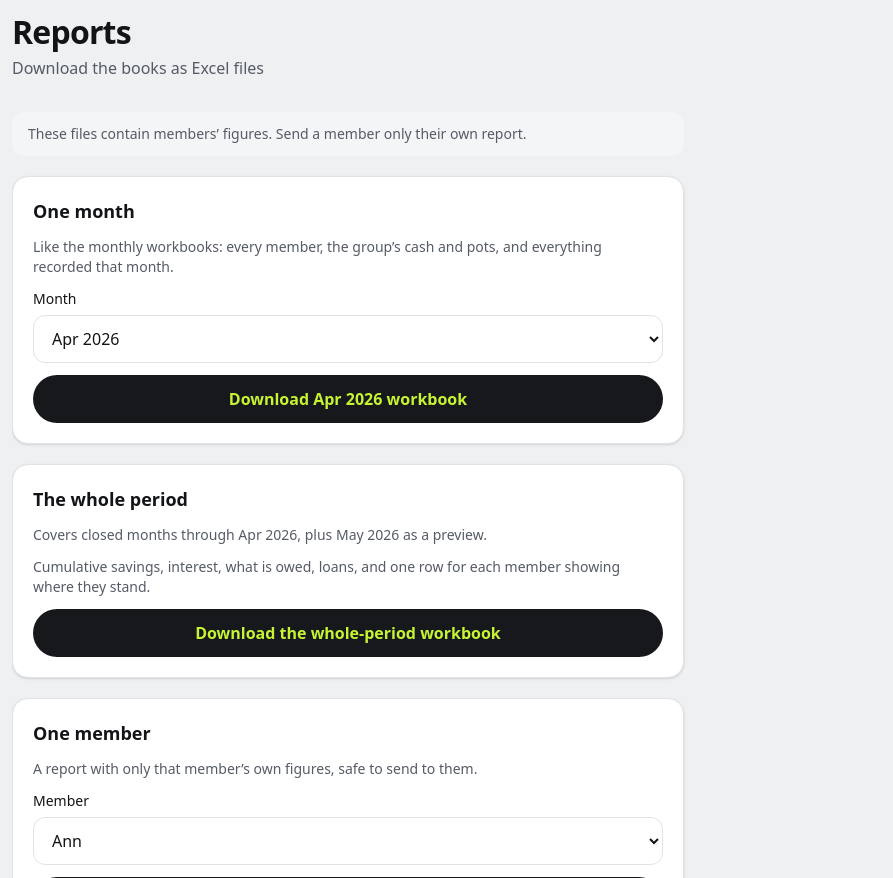
it: the whole-period file says what it covers, and a left-out month is mentioned in the toast
Check: the text "Covers closed months through Apr 2026, plus May 2026 as a preview." is shown, box 33,525 -> 487,544
Click the button "Download the whole-period workbook".
click(348, 633)  # box 33,609 -> 663,657
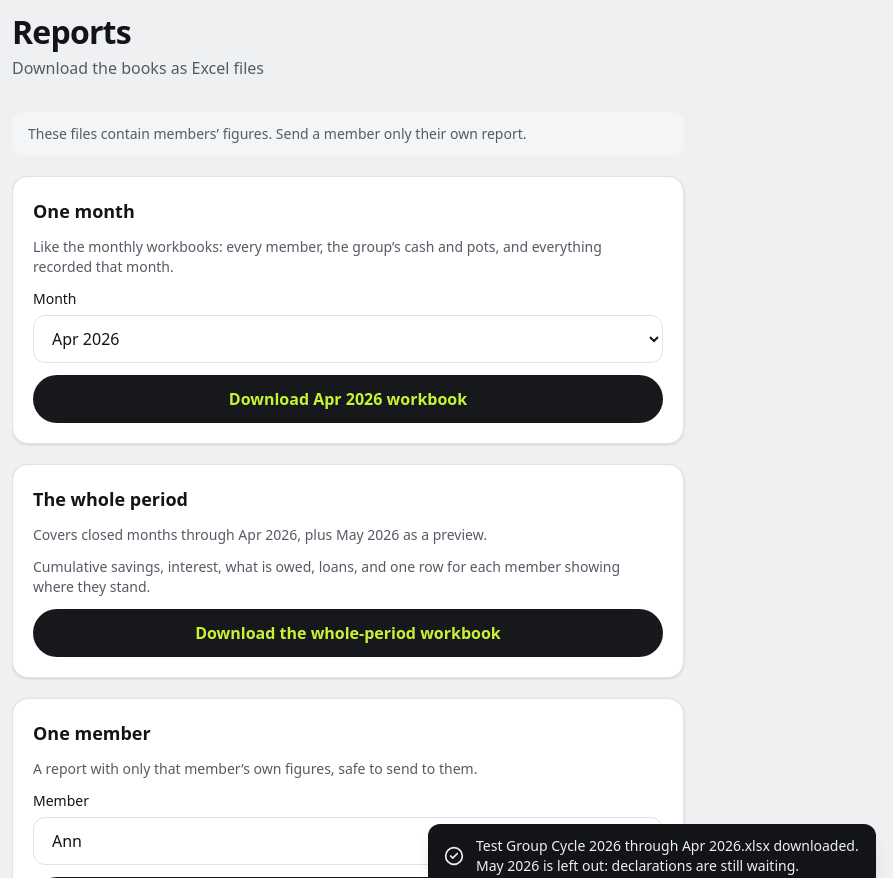
Check: the text "downloaded. May 2026 is left out: declarations are still waiting." is shown, box 476,836 -> 859,875
